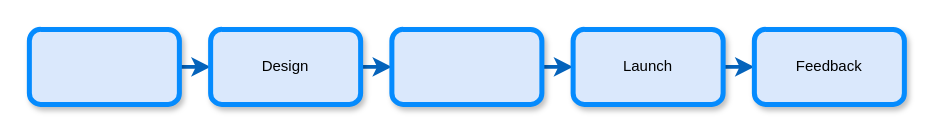
Image size: 935x136. Some labels were removed from this diagram. Here are the shapes that lost their labels. From the top down, the centre of each, then its label:
the point at 105,68: Ideation
the point at 467,68: Development
